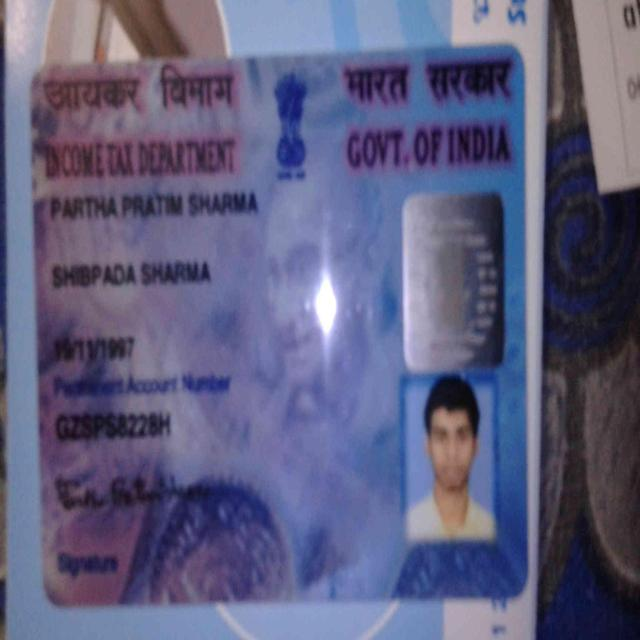pan_card: (31, 46, 526, 601)
